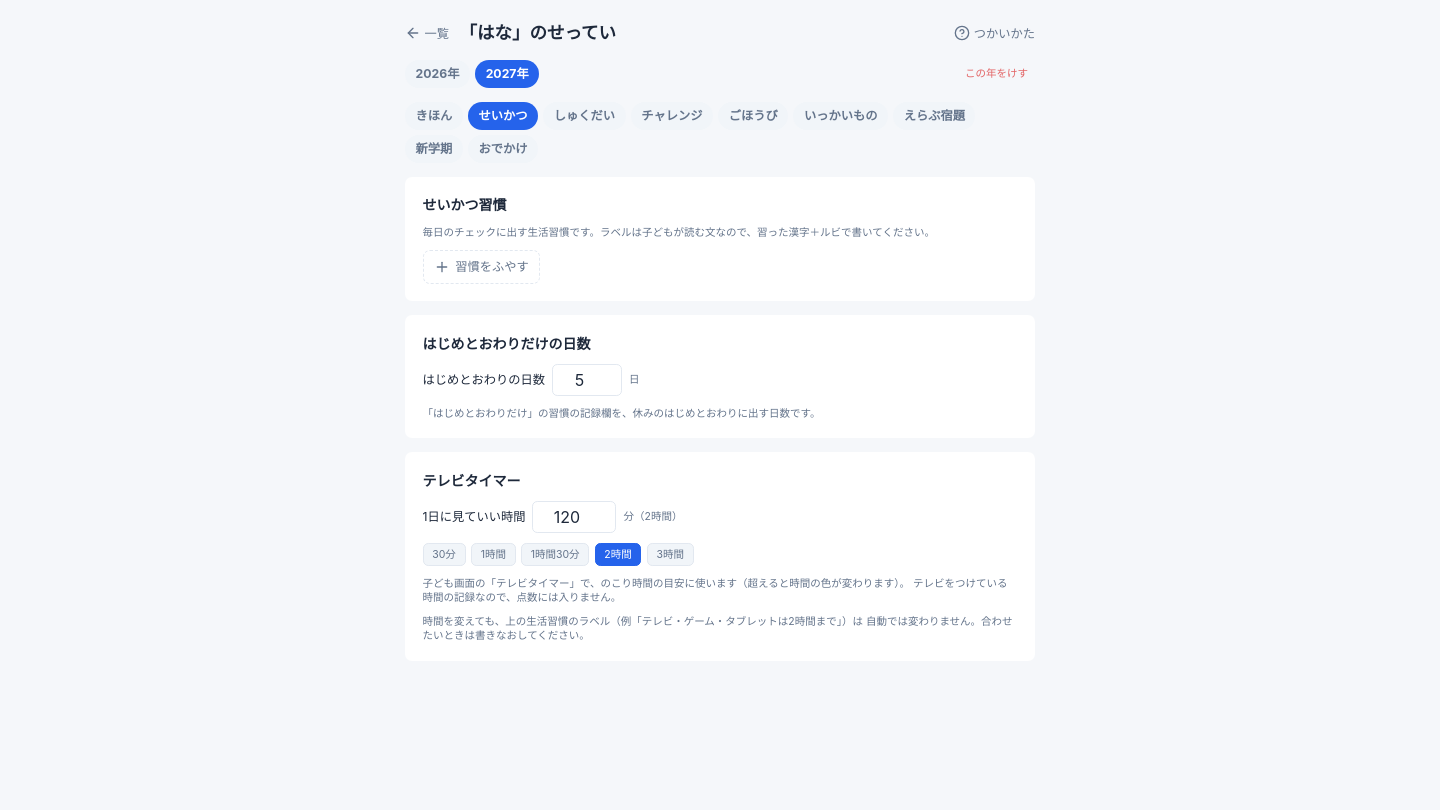
開いた時点の検証 › 保存競合のあと読み直したら、読み直した定義で検証しなおす
What coordinates should you click on to do the following:
click the button "習慣をふやす"
I would click on:
 (481, 267)
Its box is [422,250,540,284].
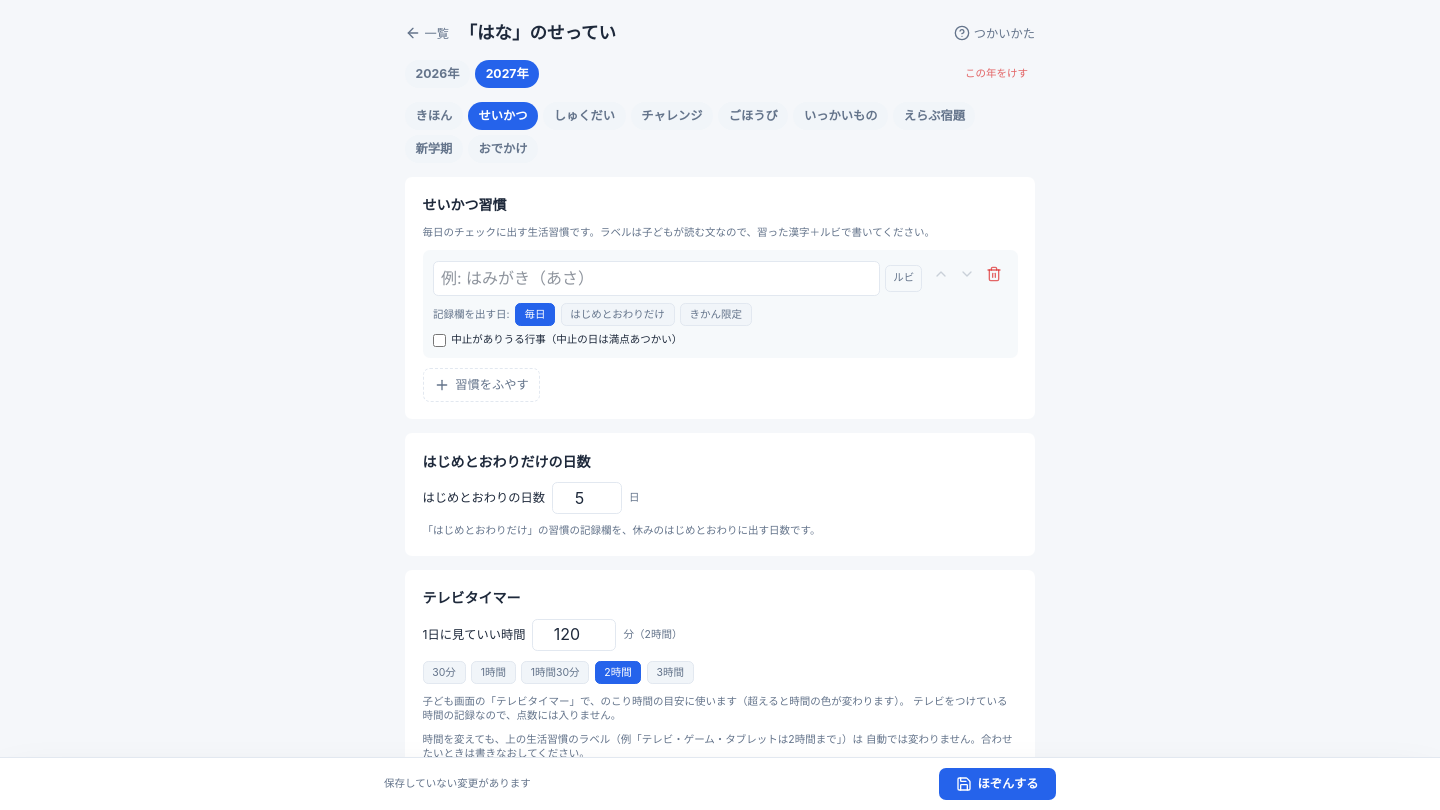
What coordinates should you click on to do the following:
click the button "ほぞんする"
I would click on:
 (997, 784)
Its box is [939,768,1056,800].
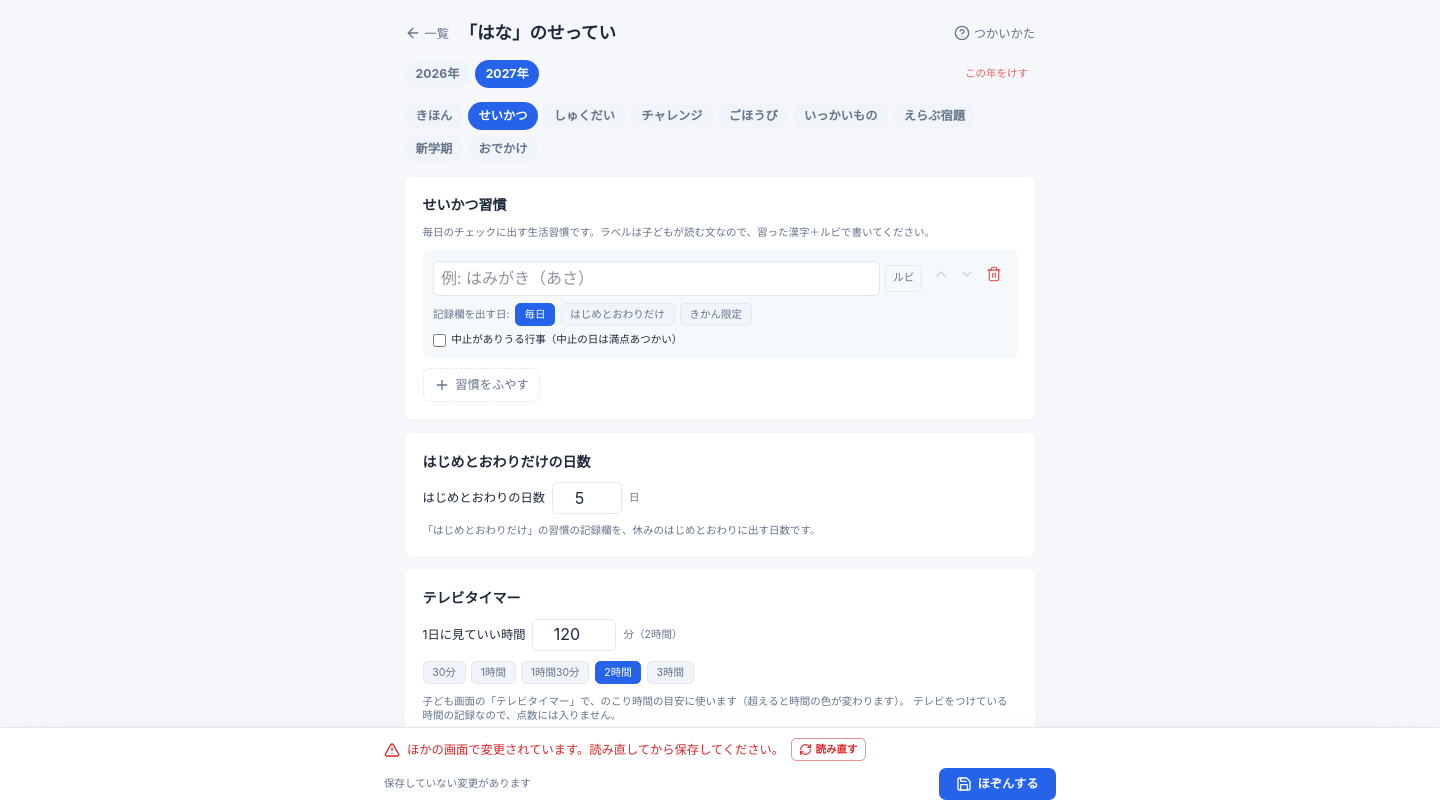
Check: the text "ほかの画面で変更されています。読み直してから保存してください。" is shown, box [407,742,784,757]
What coordinates should you click on to do the following:
click the button "読み直す"
I would click on:
 (828, 750)
Its box is [791,738,866,761].
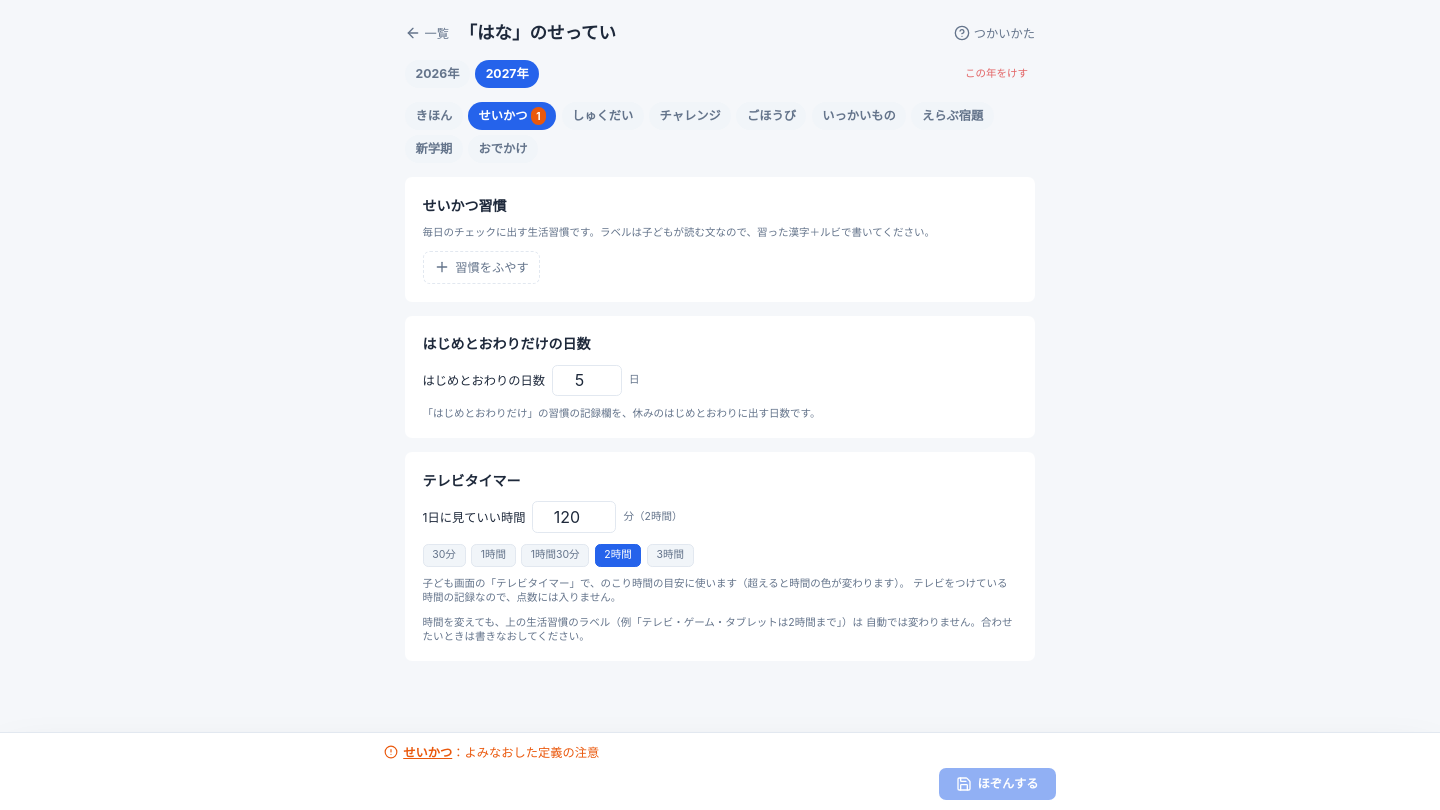
Check: the text "せいかつ ：よみなおした定義の注意" is shown, box [403,744,599,761]
